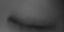RightEyeFatigue: (4, 11, 61, 32)
